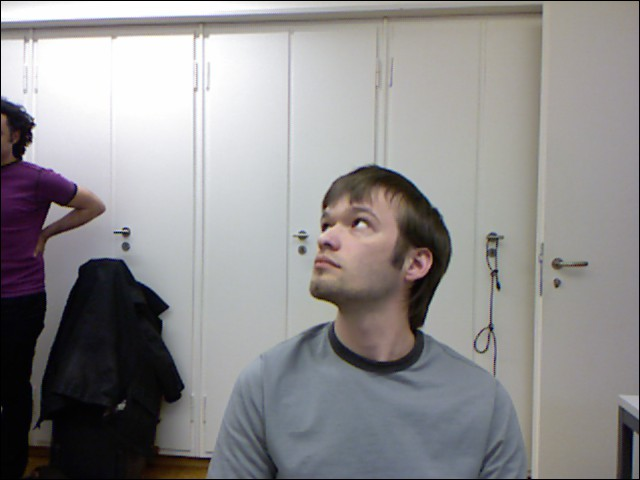deflection: (231, 172, 522, 460)
